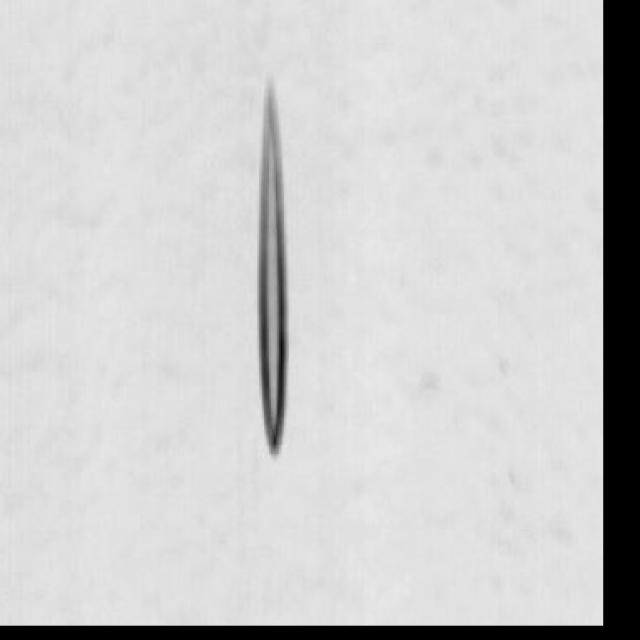Defect5: (235, 50, 300, 460)
